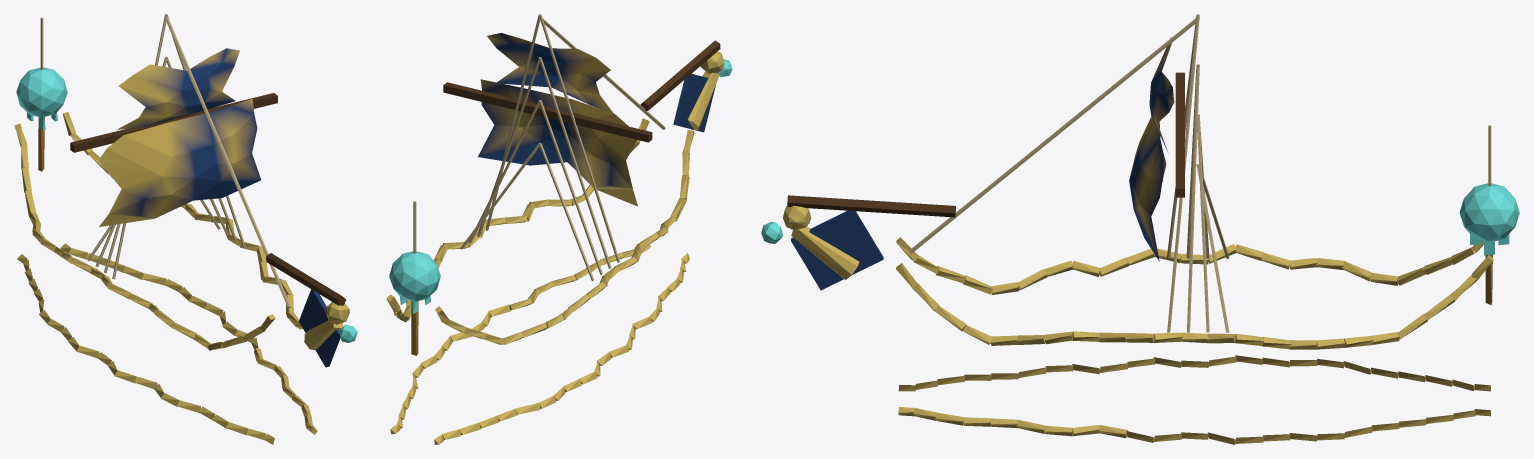
Rendered from upg_skiff_t3_lod1.glb.
The picture shows the model from 3 angles, left to right: view 1: azimuth 30°, elevation 25°; view 2: azimuth 150°, elevation 25°; view 3: azimuth 270°, elevation 25°; orthographic projection. The views are drawn at different scales.
Visible parts, largest first — view 1: geometry_0; view 2: geometry_0; view 3: geometry_0.
Boxes of the visible parts, box(x1,y1,x2,y2) form: geometry_0: box(14, 14, 357, 444); geometry_0: box(386, 14, 732, 444); geometry_0: box(761, 14, 1519, 444).
Size of the model in its own units: 3.02 by 4.7 by 8.31.
